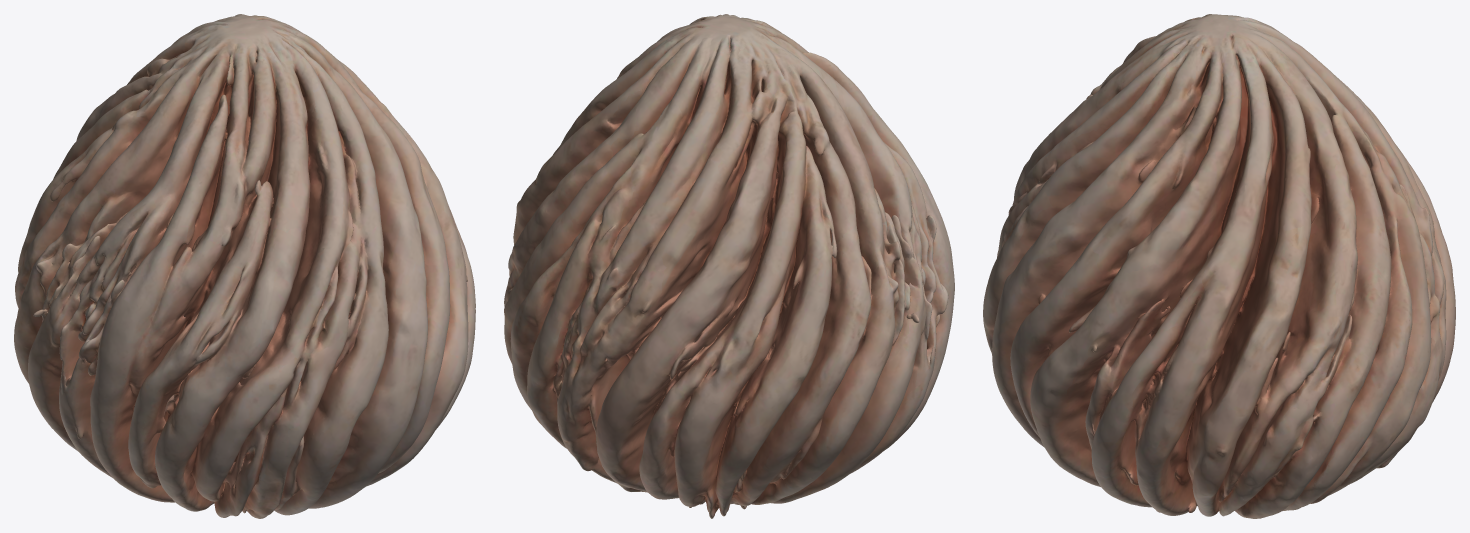
File: detailed_realistic_model_solid_09.glb
3 renders of one model, left to right at view 1: azimuth 30°, elevation 25°; view 2: azimuth 150°, elevation 25°; view 3: azimuth 270°, elevation 25°, orthographic. The views are drawn at different scales.
Parts seen in each view (by area): view 1: tripo_node_44b6301c-de86-491a-9ed8-3fe5a6a20749; view 2: tripo_node_44b6301c-de86-491a-9ed8-3fe5a6a20749; view 3: tripo_node_44b6301c-de86-491a-9ed8-3fe5a6a20749.
Part boxes in pixels (x1,y1,x2,y2): tripo_node_44b6301c-de86-491a-9ed8-3fe5a6a20749: [14, 14, 475, 518]; tripo_node_44b6301c-de86-491a-9ed8-3fe5a6a20749: [504, 14, 954, 518]; tripo_node_44b6301c-de86-491a-9ed8-3fe5a6a20749: [983, 14, 1455, 518].
Size of the model in its own units: 0.9346 by 0.9999 by 0.9333.
Materials: 1 (1 with a texture image).
